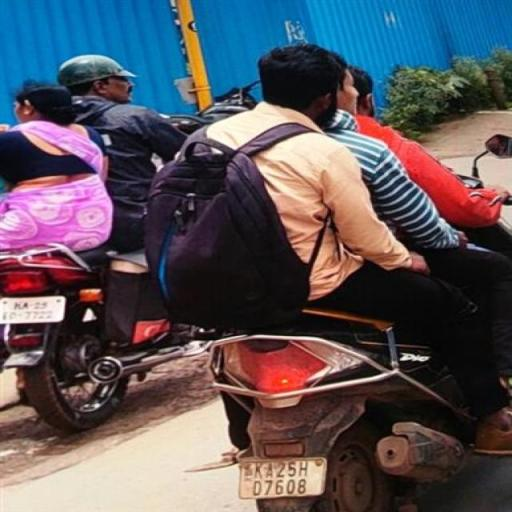tripple riding: (132, 38, 510, 331)
